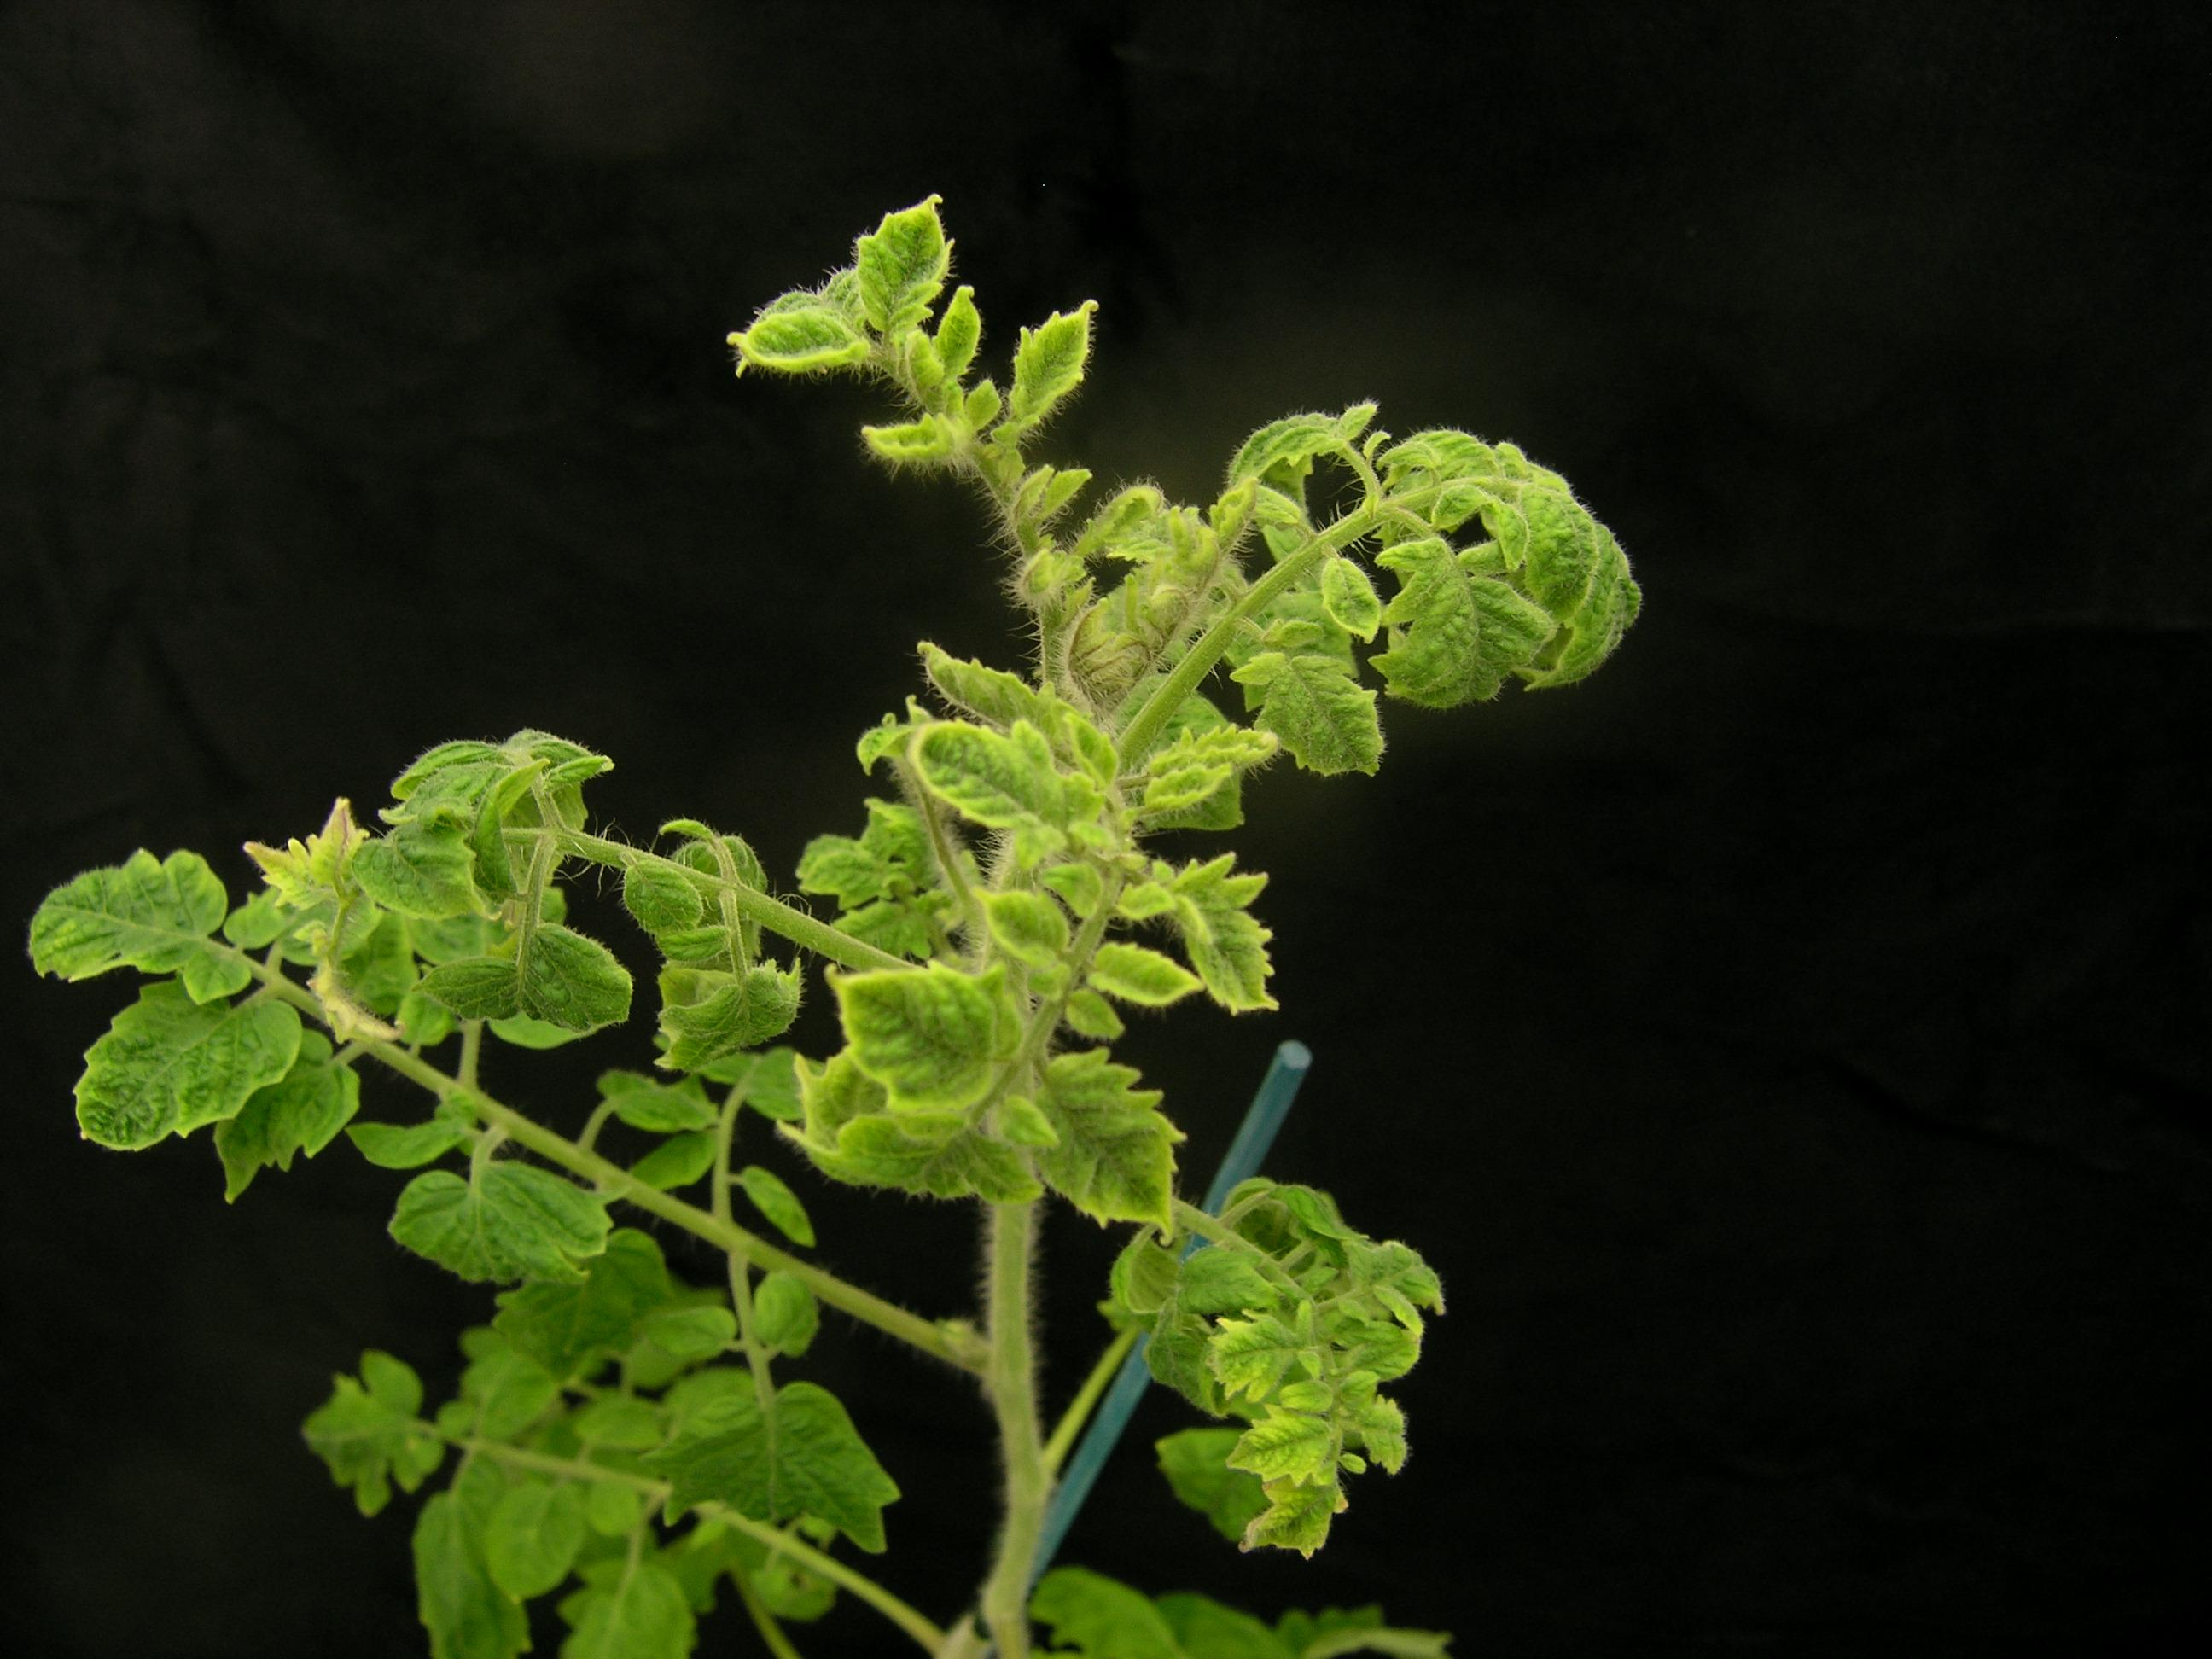Tomato leaf yellow virus: (798, 938, 1024, 1141), (75, 981, 326, 1148), (24, 831, 244, 1018), (1038, 1047, 1195, 1255), (1242, 633, 1411, 788), (904, 711, 1089, 840), (1155, 863, 1296, 1018), (1374, 523, 1493, 706), (853, 155, 968, 343), (1230, 1448, 1350, 1582), (707, 291, 864, 382), (1202, 1291, 1332, 1387), (1386, 408, 1503, 497), (1211, 1406, 1339, 1474)
